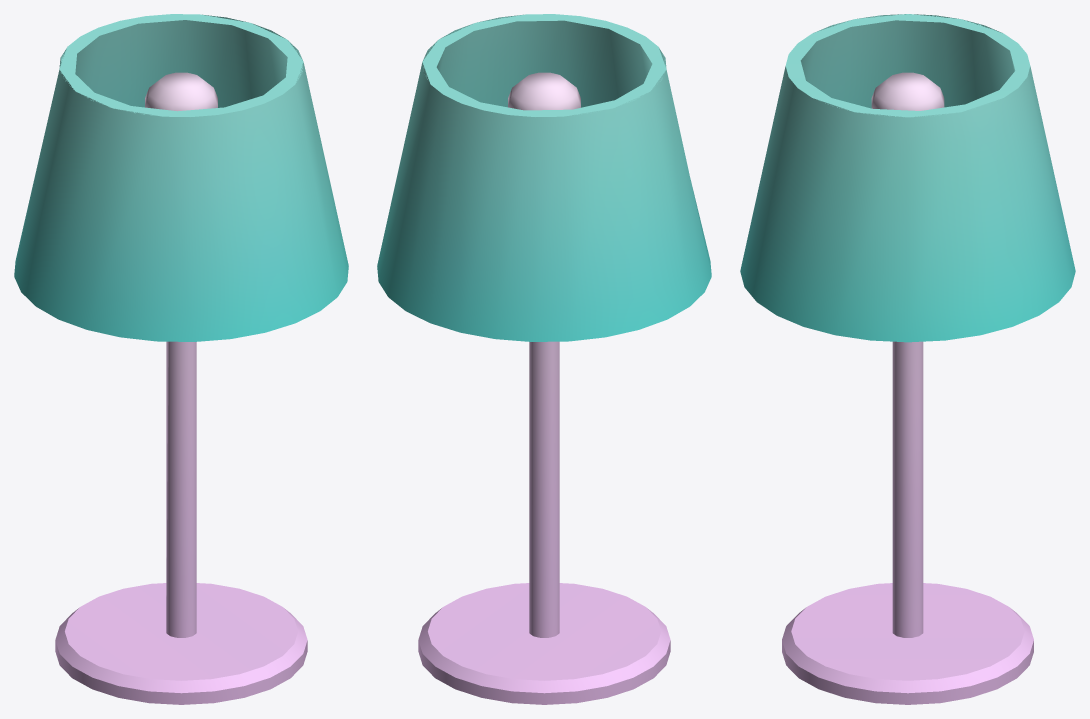
Rendered from lamp.fbx.
The picture shows the model from 3 angles, left to right: view 1: azimuth 30°, elevation 25°; view 2: azimuth 150°, elevation 25°; view 3: azimuth 270°, elevation 25°; orthographic projection.
Parts seen in each view (by area): view 1: Lamp; view 2: Lamp; view 3: Lamp.
Part boxes in pixels (left/top/right/bottom): Lamp: left=14, top=14, right=348, bottom=704; Lamp: left=377, top=14, right=711, bottom=704; Lamp: left=740, top=14, right=1075, bottom=704.
Bounding box in the file's own units: 0.6839 × 1.32 × 0.6839.
